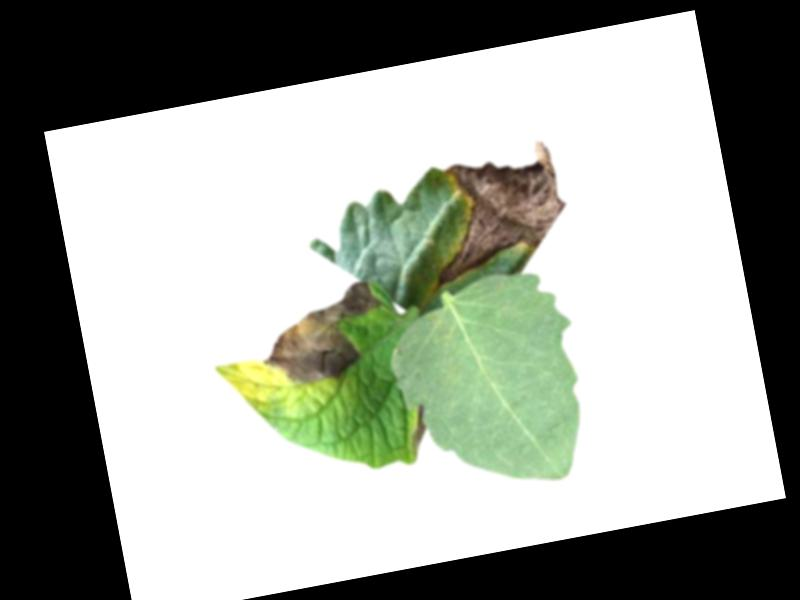Early_blight: (410, 135, 576, 285), (251, 276, 394, 393), (404, 405, 430, 453)
healthy: (380, 262, 600, 506)
